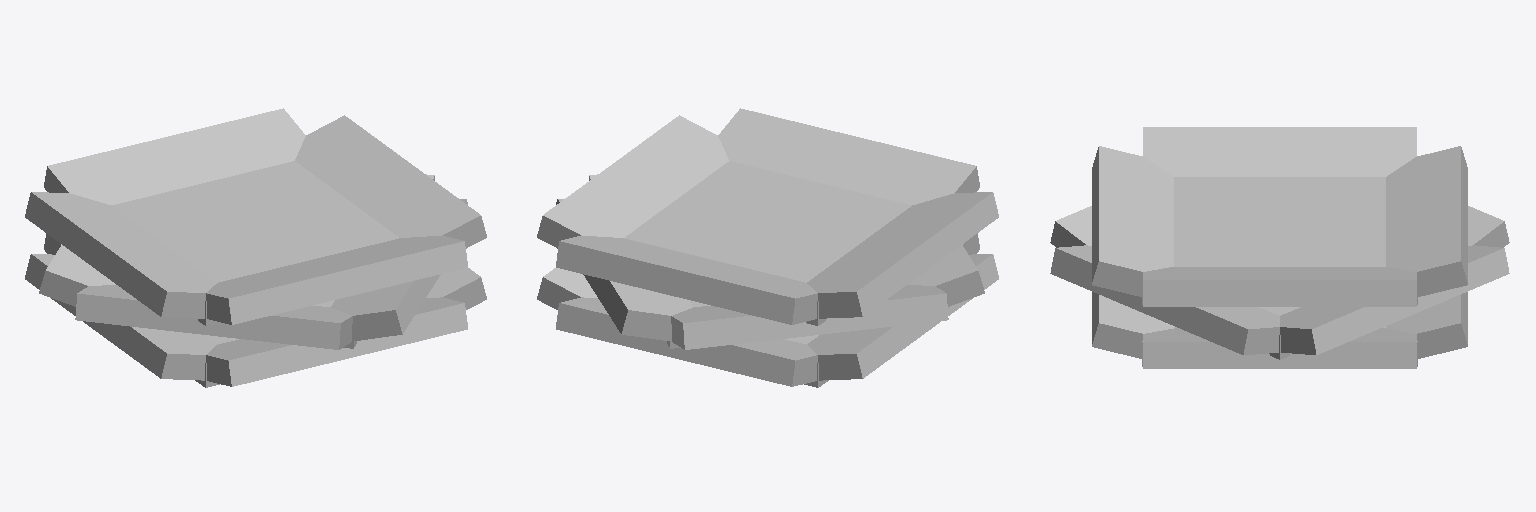
The model's file is teaplate_3.obj.
The picture shows the model from 3 angles: view 1: azimuth 30°, elevation 25°; view 2: azimuth 150°, elevation 25°; view 3: azimuth 270°, elevation 25°; orthographic projection.
Visible parts, largest first — view 1: bottom_3, east_rim_3, south_rim_3, west_rim_3, north_rim_3, west_rim_2, south_rim_1, west_rim_1, south_rim_2, north_rim_2, east_rim_1; view 2: bottom_3, west_rim_3, south_rim_3, east_rim_3, north_rim_3, north_rim_2, north_rim_1, west_rim_1, east_rim_2, west_rim_2, east_rim_1; view 3: bottom_3, north_rim_3, south_rim_3, east_rim_3, west_rim_3, east_rim_1, east_rim_2, south_rim_2, north_rim_1, south_rim_1, west_rim_2, north_rim_2.
Boxes of the visible parts, x1,y1,x2,y2 form: bottom_3: [112, 161, 398, 325]; east_rim_3: [44, 108, 305, 204]; south_rim_3: [295, 115, 486, 248]; west_rim_3: [206, 235, 467, 324]; north_rim_3: [25, 192, 216, 318]; west_rim_2: [75, 285, 352, 349]; south_rim_1: [206, 297, 467, 386]; west_rim_1: [25, 254, 216, 380]; south_rim_2: [331, 199, 467, 340]; north_rim_2: [39, 245, 115, 306]; east_rim_1: [426, 268, 486, 309]; bottom_3: [625, 161, 911, 325]; west_rim_3: [718, 108, 979, 204]; south_rim_3: [537, 115, 728, 248]; east_rim_3: [556, 235, 817, 324]; north_rim_3: [807, 192, 998, 318]; north_rim_2: [671, 285, 948, 349]; north_rim_1: [556, 297, 817, 386]; west_rim_1: [807, 254, 998, 380]; east_rim_2: [556, 199, 692, 340]; west_rim_2: [908, 245, 984, 306]; east_rim_1: [537, 268, 597, 309]; bottom_3: [1142, 177, 1417, 304]; north_rim_3: [1143, 127, 1416, 176]; south_rim_3: [1143, 267, 1416, 306]; east_rim_3: [1386, 146, 1467, 296]; west_rim_3: [1092, 146, 1173, 296]; east_rim_1: [1143, 328, 1416, 368]; east_rim_2: [1280, 245, 1509, 354]; south_rim_2: [1050, 245, 1279, 354]; north_rim_1: [1386, 292, 1467, 358]; south_rim_1: [1092, 292, 1173, 358]; west_rim_2: [1050, 206, 1091, 247]; north_rim_2: [1468, 206, 1509, 247].
Bounding box in the file's own units: 1.05 × 0.2651 × 1.05.